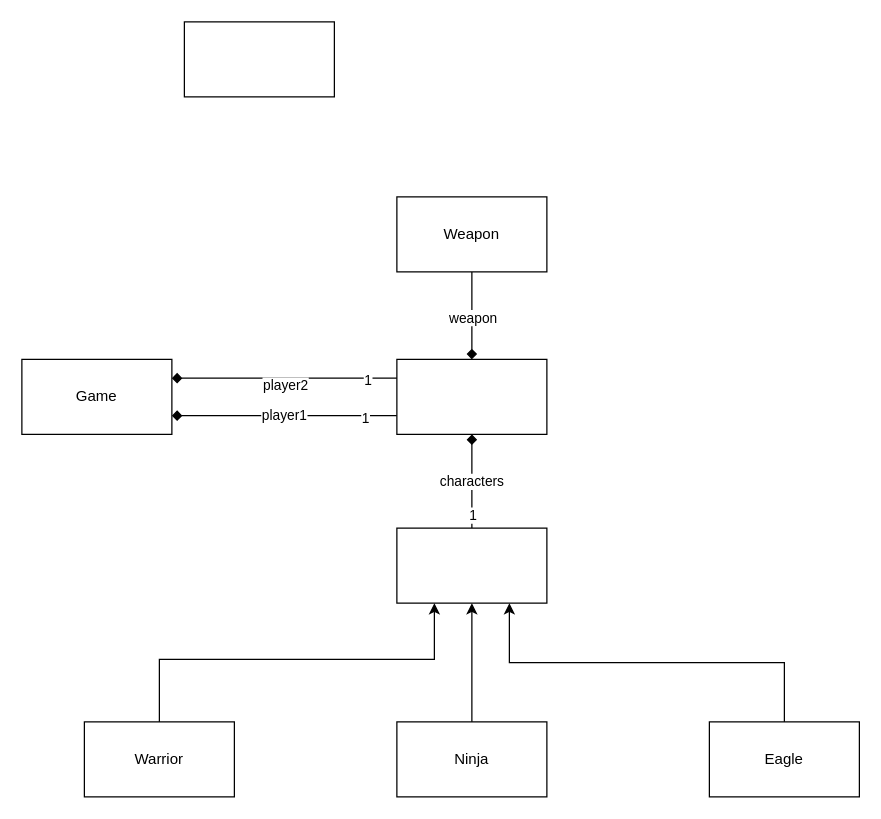
This 881x819 diagram has some shape labels left out. Here are the shapes that lost their labels. From the top down, the centre of each, then its label:
At [258,59]: "Sword".
At [471,396]: "Player".
At [471,565]: "Character".
